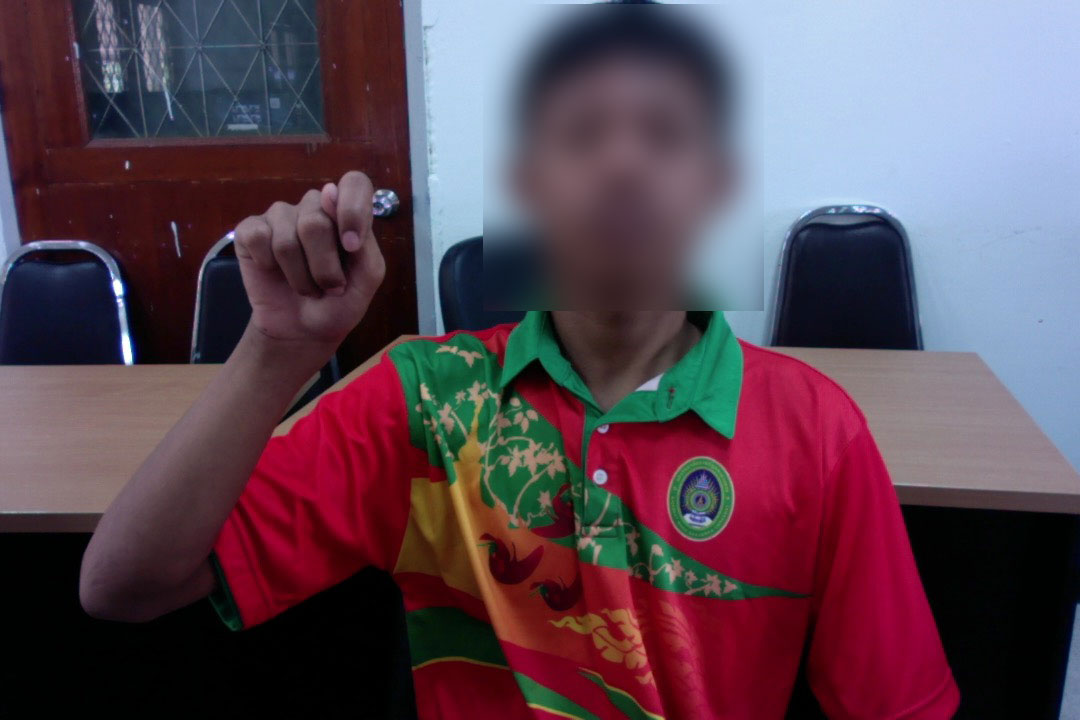tor: (229, 169, 388, 352)
